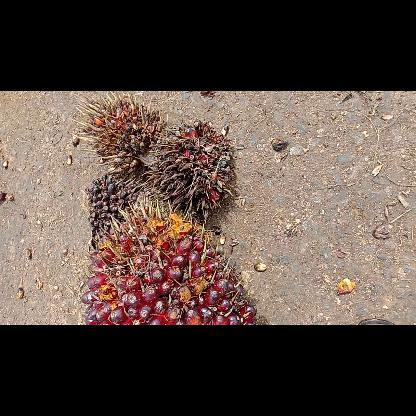TBS abnormal: (146, 120, 238, 216), (72, 94, 164, 168), (86, 170, 140, 250)
TBS masak: (78, 196, 258, 324)
